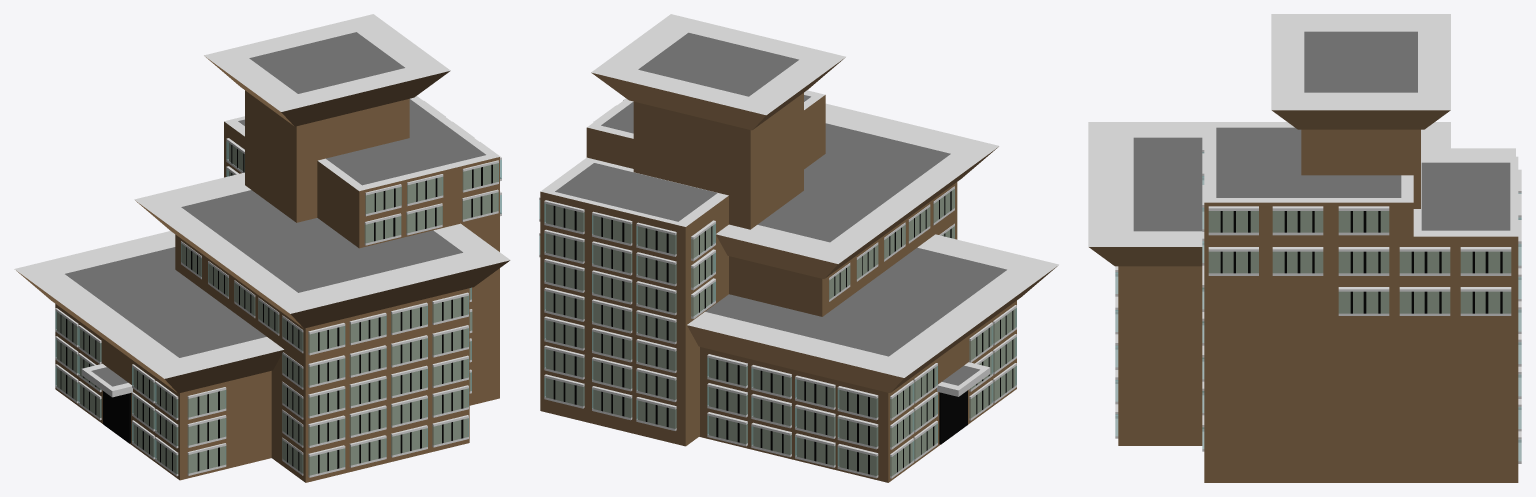
Rendered from building next to itc.fbx.
3 views of the same model, side by side, from view 1: azimuth 30°, elevation 25°; view 2: azimuth 150°, elevation 25°; view 3: azimuth 270°, elevation 25° (orthographic). The views are drawn at different scales.
Visible parts, largest first — view 1: pCube3, pCube4, pCube2, pCube1, pCube23, pCube39, pCube41, pCube40, pCube22, pCube103, pCube107, pCube108 (+41 smaller); view 2: pCube4, pCube1, pCube2, pCube3, pCube23, pCube42, pCube43, pCube44, pCube47, pCube51, pCube52, pCube46 (+46 smaller); view 3: pCube1, pCube3, pCube2, pCube79, pCube80, pCube78, pCube82, pCube83, pCube84, pCube85, pCube86, pCube87 (+3 smaller).
Part boxes in pixels (x1=…): pCube3: x1=134, y1=172, x2=510, y2=482; pCube4: x1=14, y1=231, x2=284, y2=480; pCube2: x1=204, y1=14, x2=450, y2=222; pCube1: x1=224, y1=96, x2=499, y2=405; pCube23: x1=103, y1=391, x2=130, y2=443; pCube39: x1=187, y1=387, x2=226, y2=419; pCube41: x1=187, y1=443, x2=226, y2=475; pCube40: x1=187, y1=415, x2=226, y2=447; pCube22: x1=81, y1=363, x2=132, y2=397; pCube103: x1=308, y1=445, x2=345, y2=477; pCube107: x1=349, y1=405, x2=386, y2=437; pCube108: x1=349, y1=435, x2=386, y2=467; pCube4: x1=687, y1=234, x2=1058, y2=482; pCube1: x1=540, y1=90, x2=825, y2=446; pCube2: x1=591, y1=14, x2=845, y2=299; pCube3: x1=716, y1=103, x2=999, y2=316; pCube23: x1=939, y1=390, x2=967, y2=444; pCube42: x1=837, y1=386, x2=878, y2=420; pCube43: x1=837, y1=415, x2=878, y2=449; pCube44: x1=837, y1=444, x2=878, y2=478; pCube47: x1=795, y1=433, x2=835, y2=467; pCube51: x1=707, y1=354, x2=747, y2=388; pCube52: x1=707, y1=383, x2=747, y2=417; pCube46: x1=795, y1=404, x2=835, y2=438; pCube1: x1=1204, y1=123, x2=1518, y2=482; pCube3: x1=1088, y1=122, x2=1450, y2=445; pCube2: x1=1271, y1=14, x2=1450, y2=208; pCube79: x1=1272, y1=206, x2=1323, y2=235; pCube80: x1=1338, y1=206, x2=1389, y2=235; pCube78: x1=1208, y1=206, x2=1258, y2=235; pCube82: x1=1272, y1=247, x2=1323, y2=275; pCube83: x1=1338, y1=247, x2=1389, y2=275; pCube84: x1=1399, y1=247, x2=1450, y2=275; pCube85: x1=1460, y1=247, x2=1511, y2=275; pCube86: x1=1338, y1=287, x2=1389, y2=315; pCube87: x1=1399, y1=287, x2=1450, y2=315.
Size of the model in its own units: 59.04 by 49.6 by 53.74.
